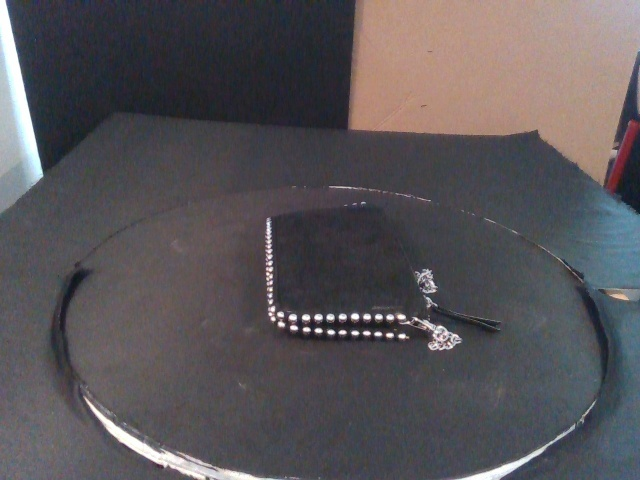bag: (263, 201, 427, 344)
